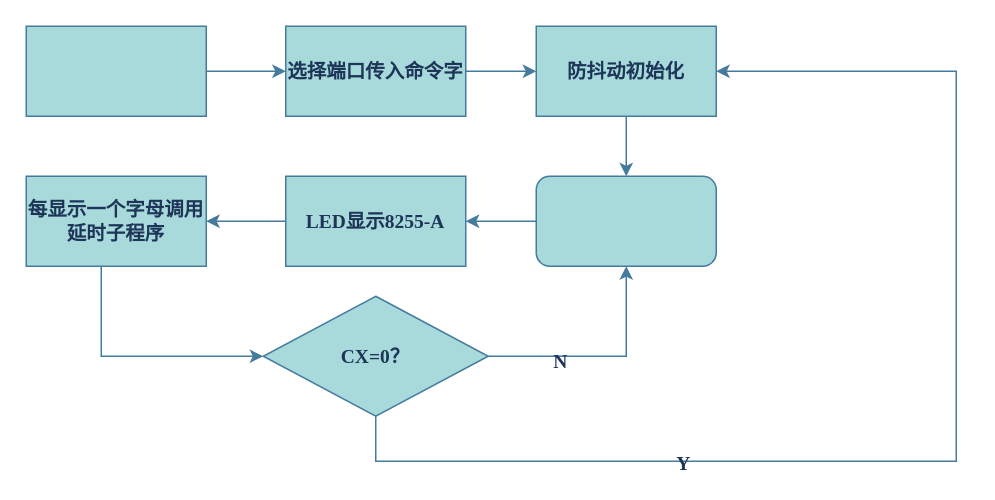
Some shapes in this 995 by 500 pixel diagram are drawn without their labels. The centre of each missing label's shape, as x and y in pixels:
"DISPLAY循环" belongs at [625,220].
"程序开始" belongs at [115,70].
